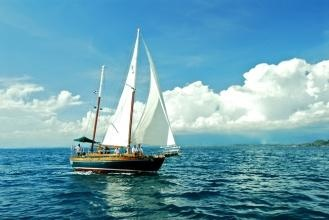fanchuan: (68, 28, 181, 177)
